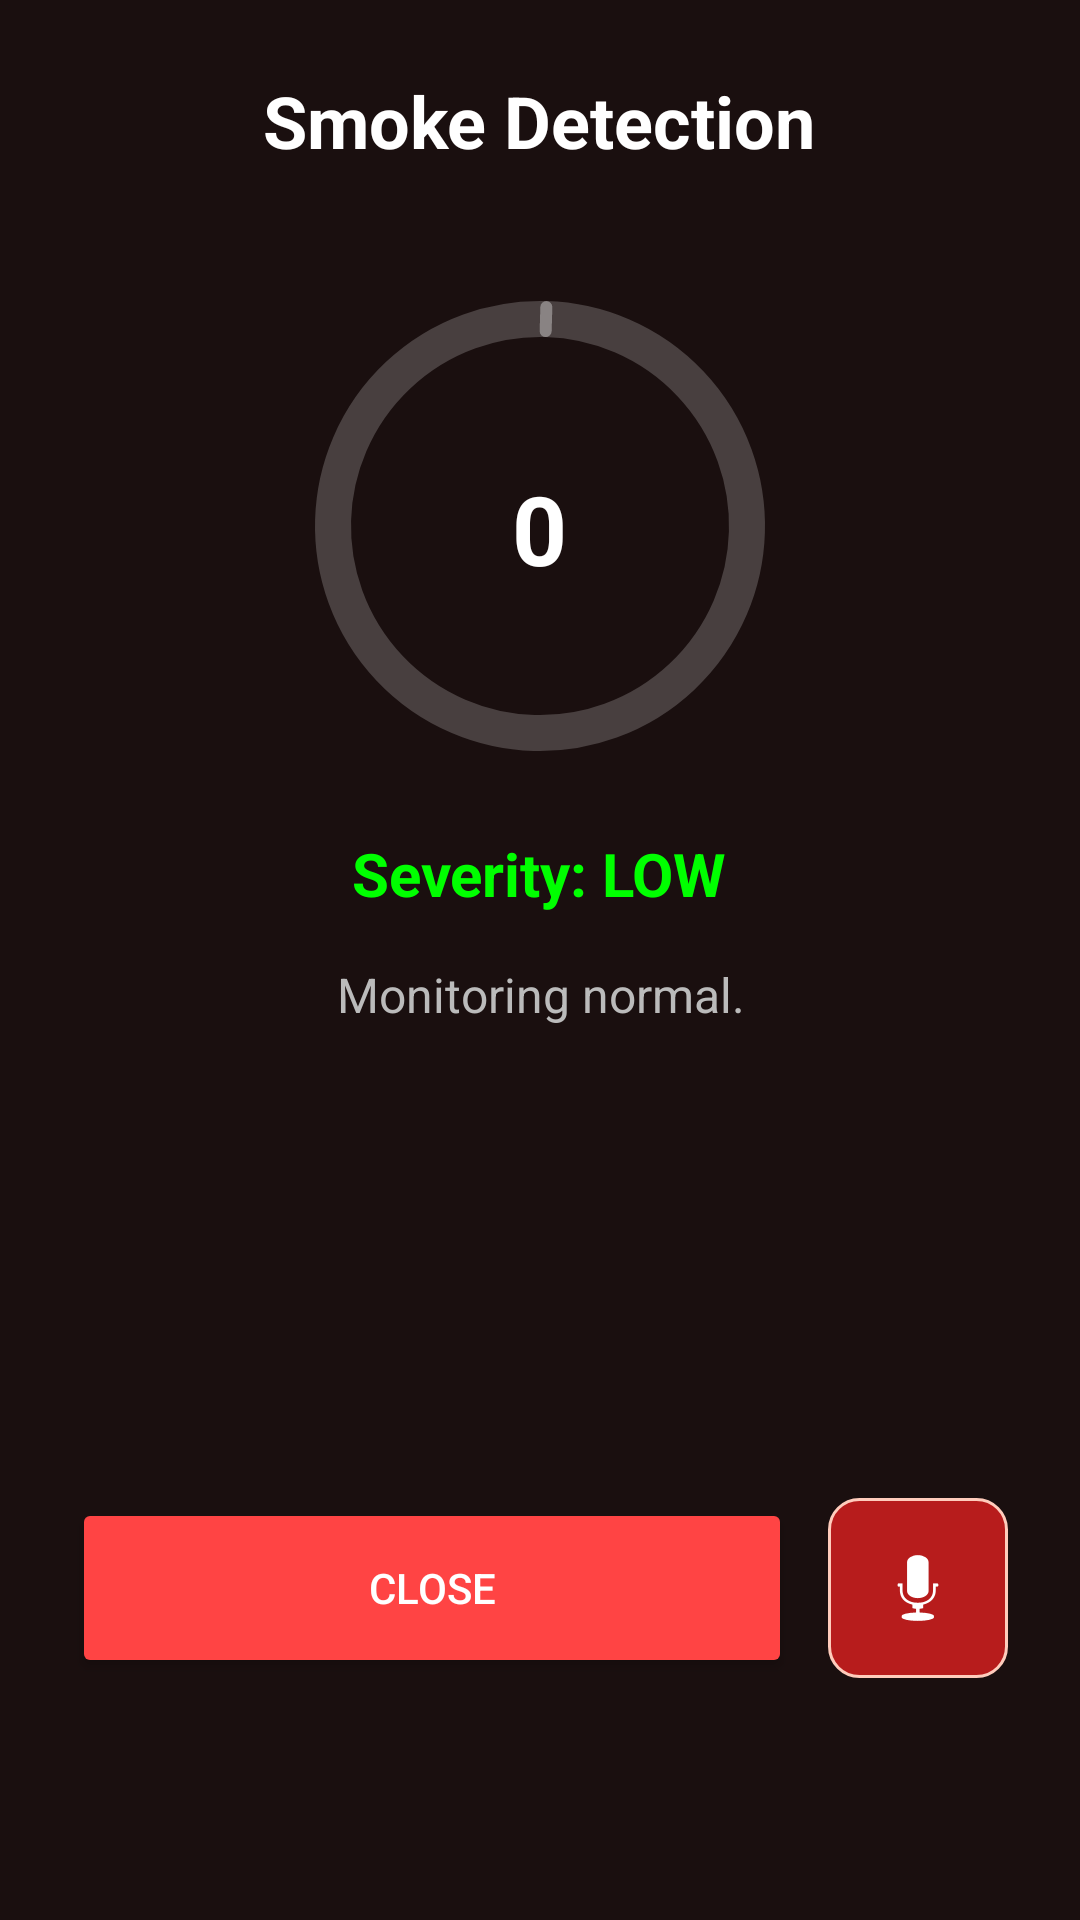

Where icons sit on this 1080px x 1920px app screen, as [x1,y1,x2,y2]:
Voice Command: [828,1498,1008,1678]
